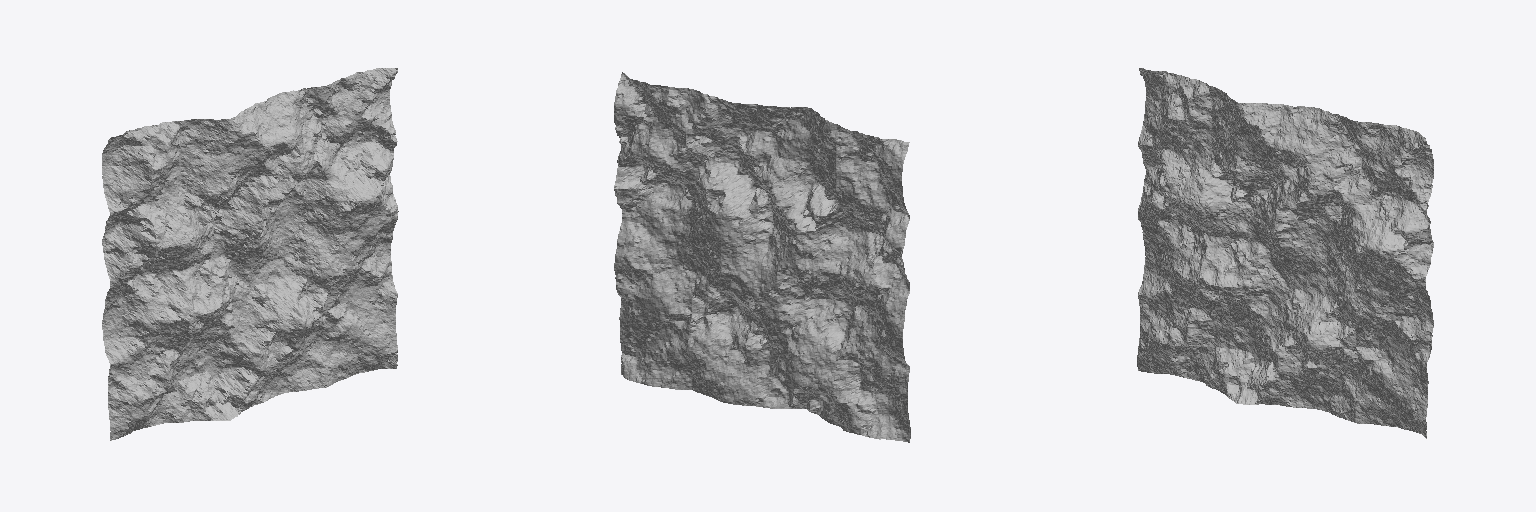
Rendered from terrain.obj.
The picture shows the model from 3 angles: view 1: azimuth 30°, elevation 25°; view 2: azimuth 150°, elevation 25°; view 3: azimuth 330°, elevation 25°; orthographic projection.
Visible parts, largest first — view 1: Object__0; view 2: Object__0; view 3: Object__0.
Part boxes in pixels (x1,y1,x2,y2): Object__0: (102, 68, 398, 440); Object__0: (614, 72, 910, 442); Object__0: (1137, 68, 1433, 438).
Size of the model in its own units: 7620 by 7620 by 940.